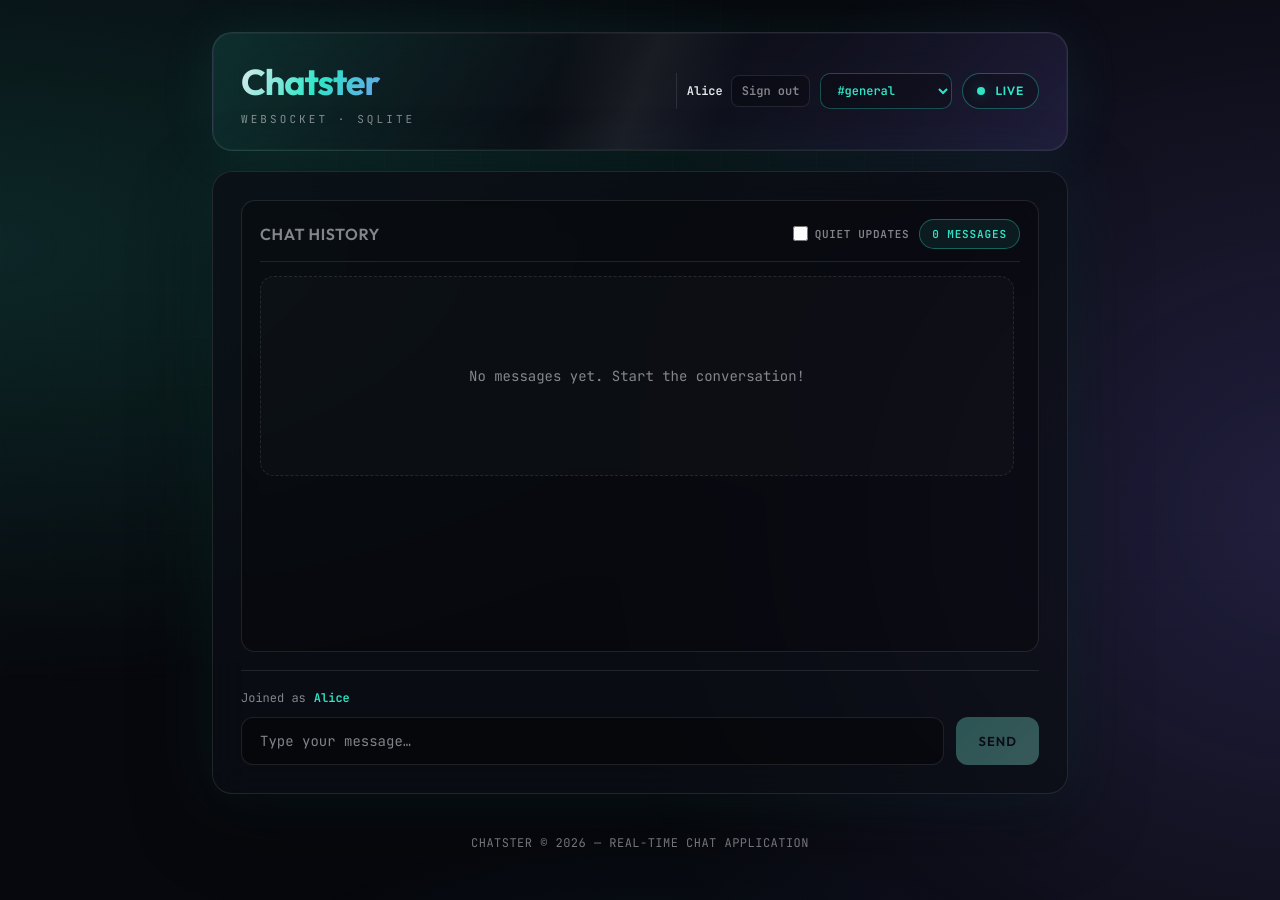
Test: App › logs out an authenticated browser session
Click the button "Sign out" at coordinates (771, 91), box [731,75,810,107]
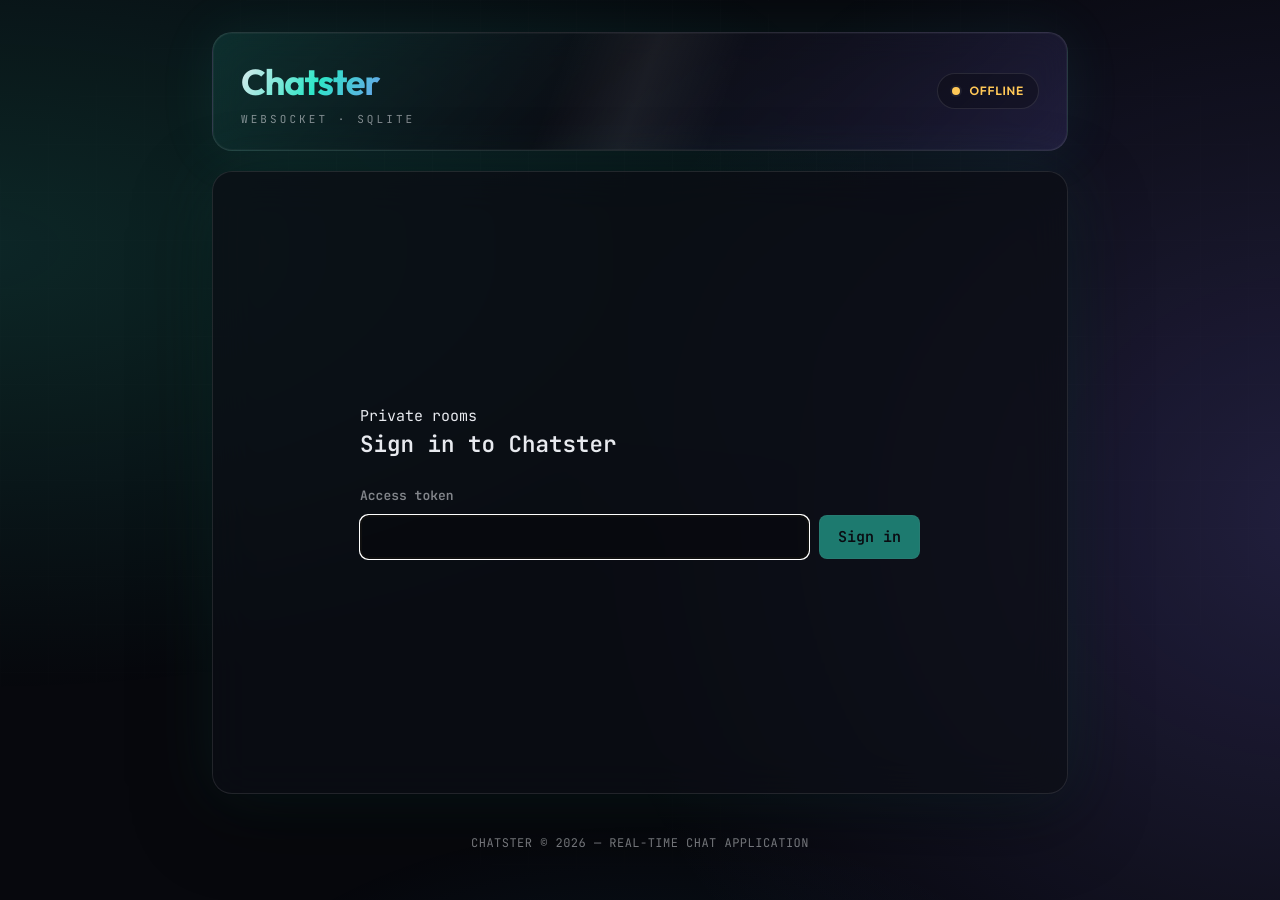
Now the password field labelled "Access token" is shown, box [360,515,809,559]
